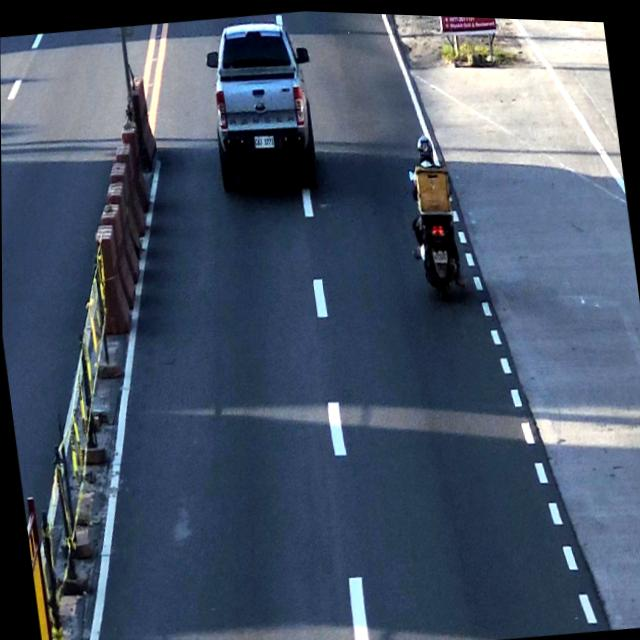Car: (200, 11, 322, 194)
License-Plate: (251, 128, 276, 150), (430, 245, 449, 263)
Motorcycle: (405, 128, 461, 292)
